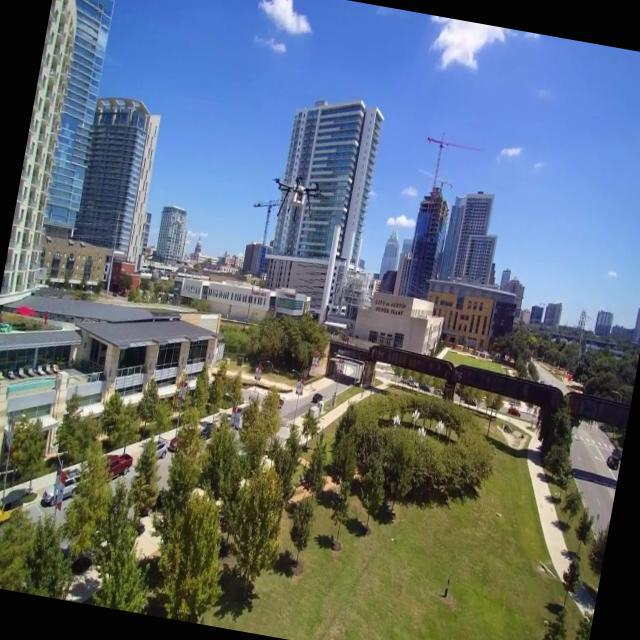drone: (268, 170, 324, 224)
